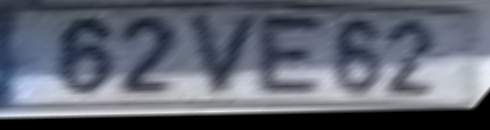2: (378, 16, 444, 102), (113, 14, 175, 100)
6: (48, 16, 120, 101), (328, 18, 388, 99)
E: (251, 15, 329, 100)
V: (189, 11, 269, 101)
